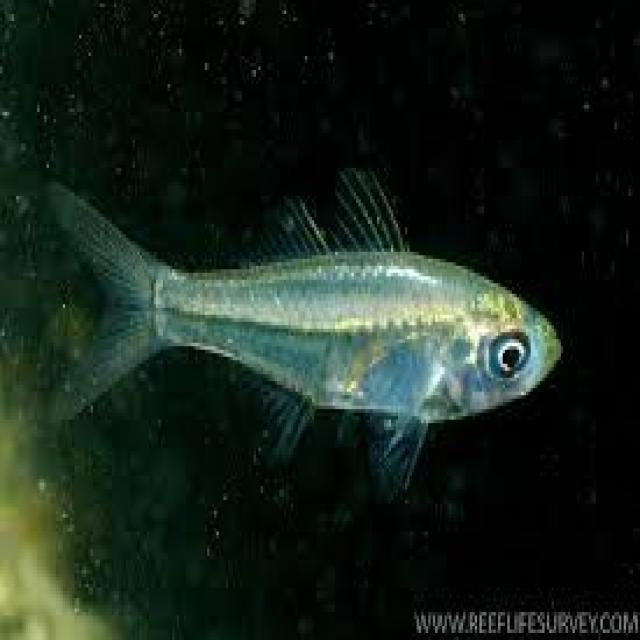Glass-Perchlet: (34, 130, 588, 534)
